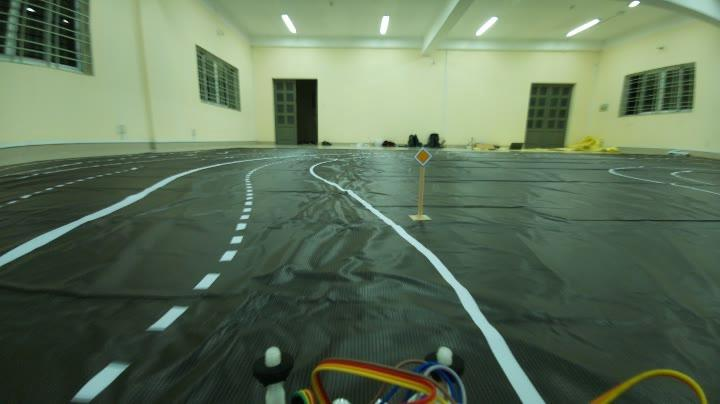priority: (410, 145, 436, 170)
